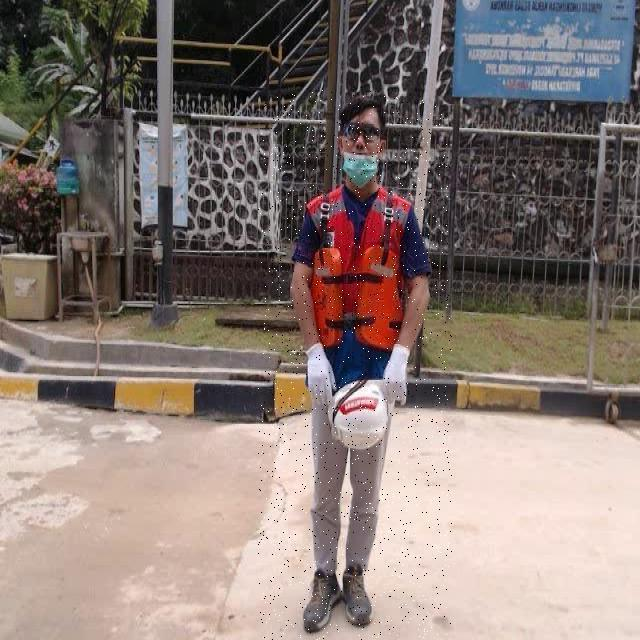gloves: (302, 342, 338, 408), (379, 343, 411, 409)
goggles: (344, 123, 382, 142)
helmet: (327, 378, 392, 451)
safety_vest: (303, 182, 413, 386)
